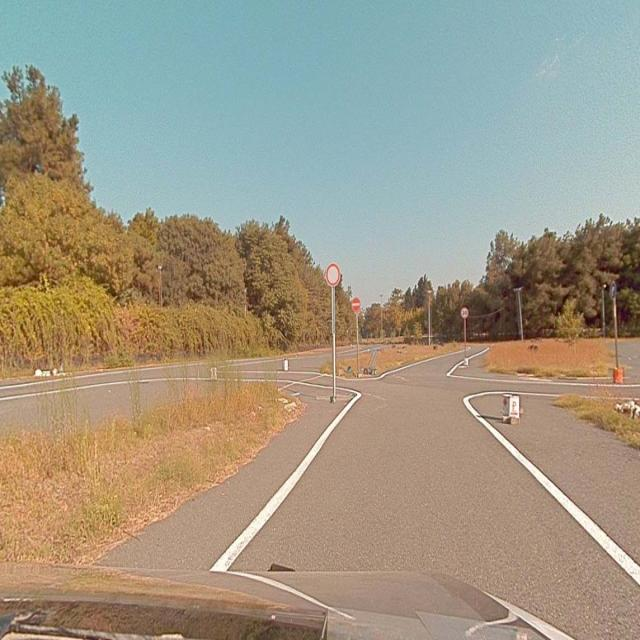girisyok: (352, 298, 361, 312)
